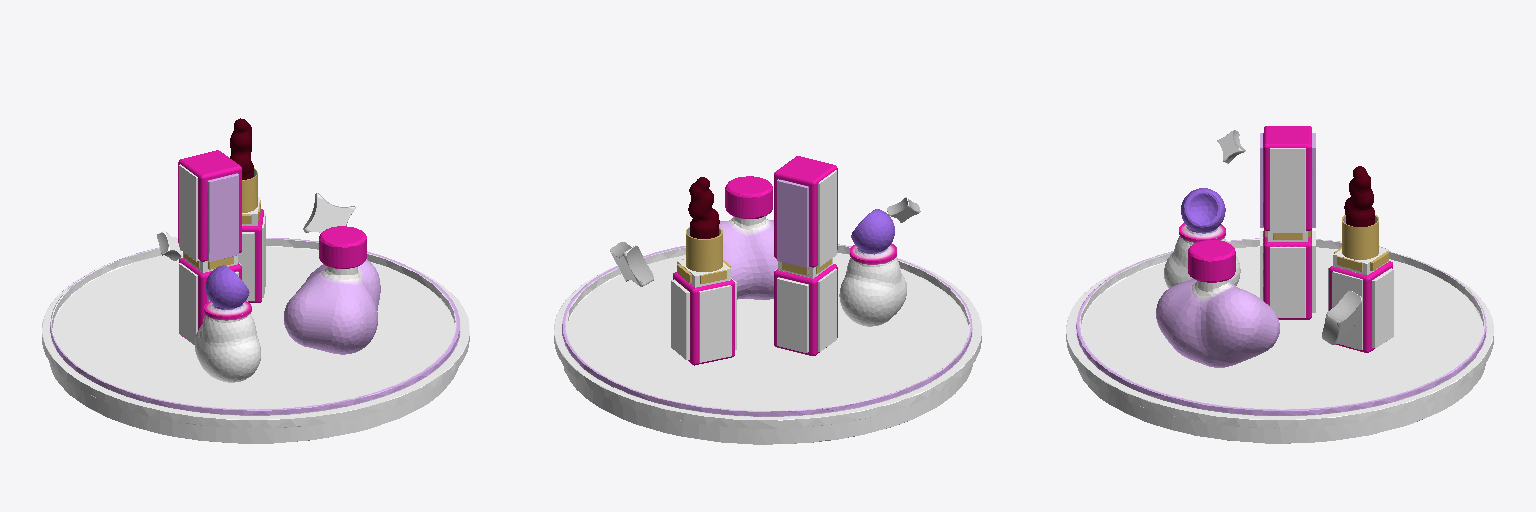
3 views of the same model, side by side, from view 1: azimuth 30°, elevation 25°; view 2: azimuth 150°, elevation 25°; view 3: azimuth 270°, elevation 25° (orthographic).
Visible parts, largest first — view 1: model_8, model_1, model_5, model_0, model_3, model_6, model_4, model_2; view 2: model_8, model_1, model_3, model_5, model_0, model_4, model_2, model_6; view 3: model_8, model_1, model_5, model_3, model_0, model_4, model_6, model_2, model_7.
Part boxes in pixels (x1,y1,x2,y2): model_8: (42,238,469,443); model_1: (178,150,241,344); model_5: (284,226,380,354); model_0: (195,265,260,382); model_3: (238,197,265,302); model_6: (303,193,355,232); model_4: (230,118,253,179); model_2: (242,168,257,212); model_8: (554,244,981,444); model_1: (774,156,837,355); model_3: (671,259,736,365); model_5: (719,176,777,299); model_0: (839,209,906,326); model_4: (688,177,719,238); model_2: (686,227,722,271); model_6: (610,242,653,286); model_8: (1066,238,1493,443); model_1: (1260,126,1315,319); model_5: (1156,240,1279,367); model_3: (1328,246,1393,352); model_0: (1164,188,1240,287); model_4: (1344,166,1374,226); model_6: (1322,291,1362,344); model_2: (1342,215,1378,259); model_7: (1217,130,1245,163).
Bounding box in the file's own units: 1182 × 618 × 1182.
Materials: 9 (9 with a texture image).